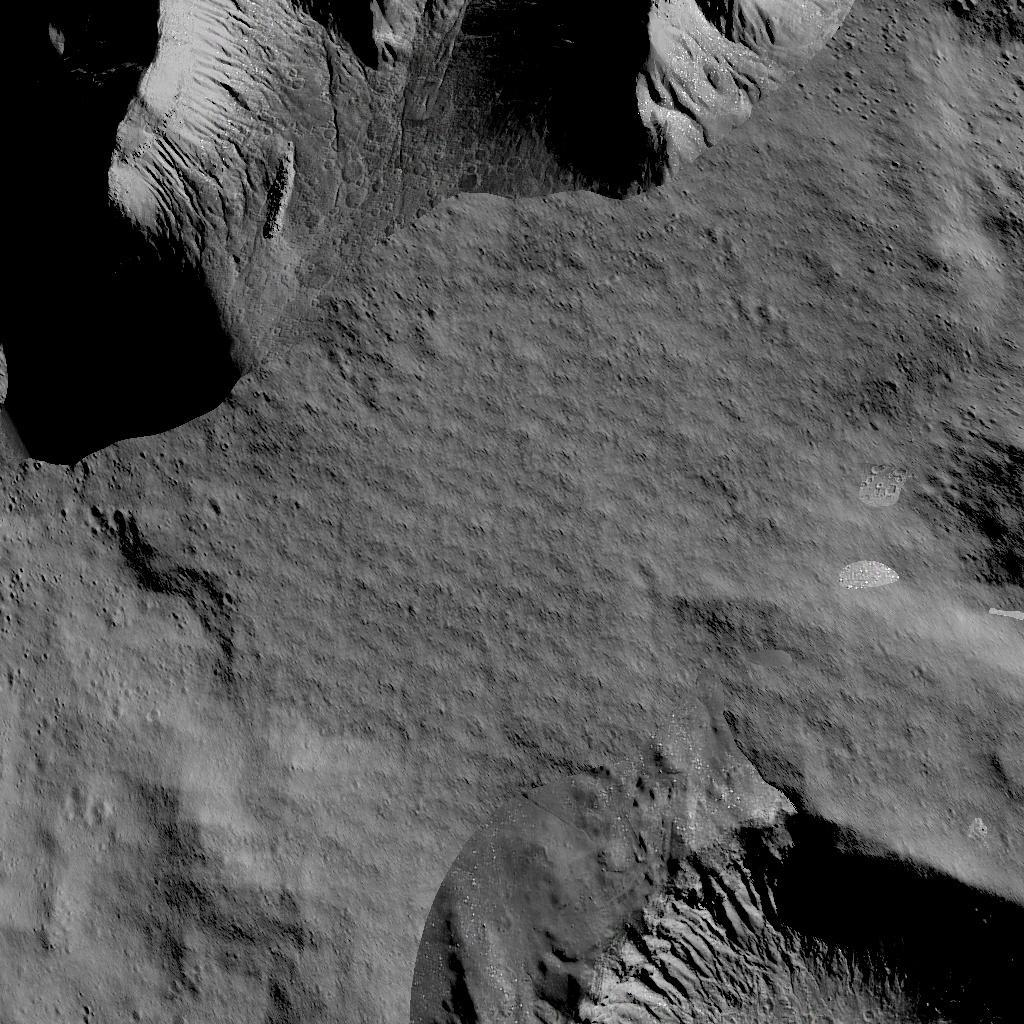Boulders: (37, 0, 865, 394)
Crater: (445, 744, 1024, 1024), (937, 414, 1024, 594)
Plan surface: (10, 476, 424, 1024), (455, 414, 905, 712), (885, 0, 1024, 370)
